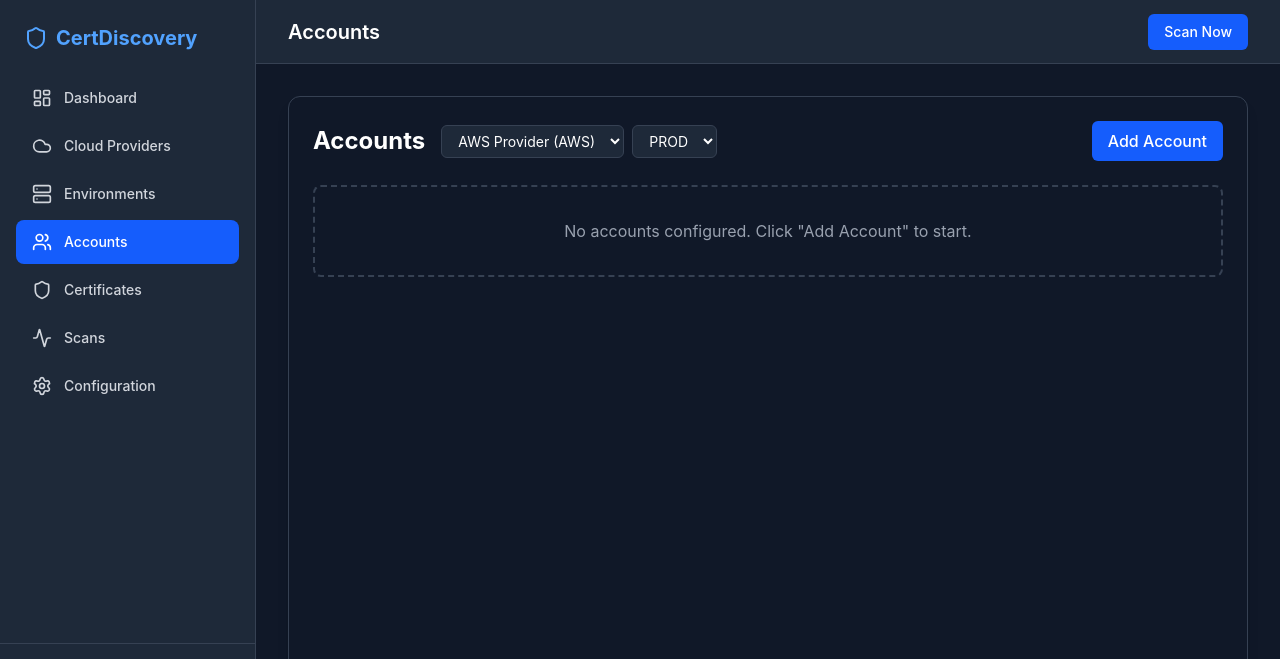
it: Accounts form › still offers Token when the provider is in MOCK mode
This screenshot has width=1280, height=659.
Click the button "Add Account" at (1157, 141), box x1=1092 y1=121 x2=1223 y2=161
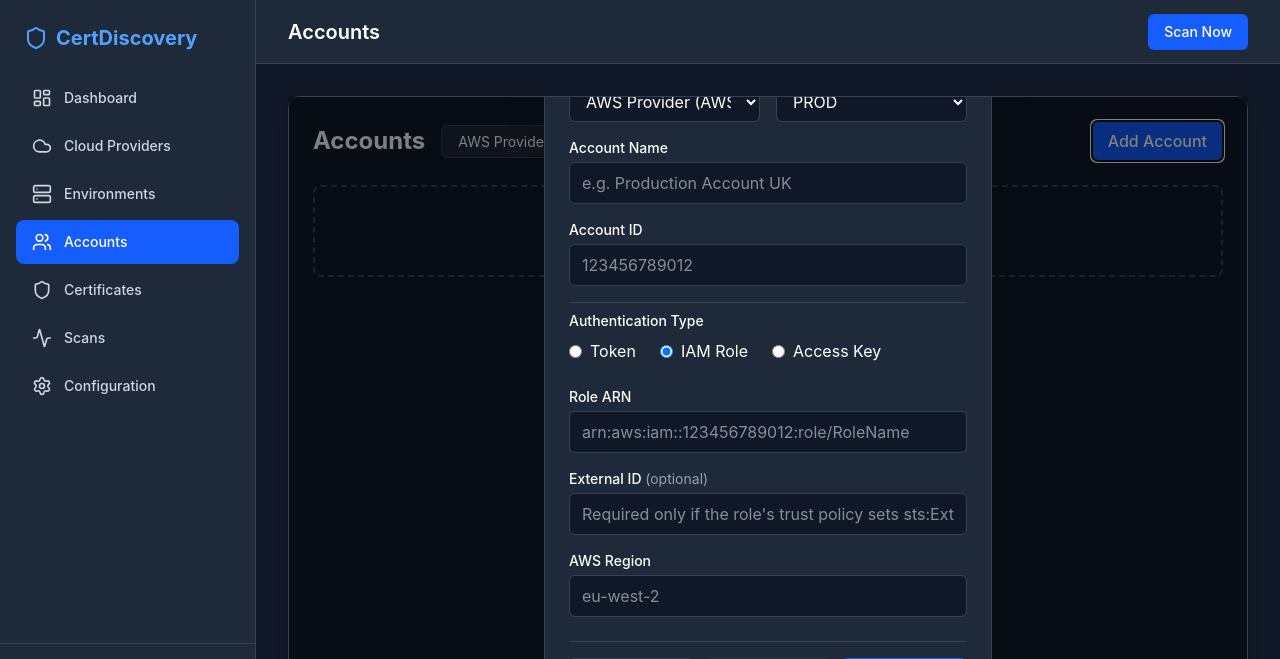
Expected: the radio button labelled "Token" is shown, x1=569 y1=344 x2=582 y2=358
